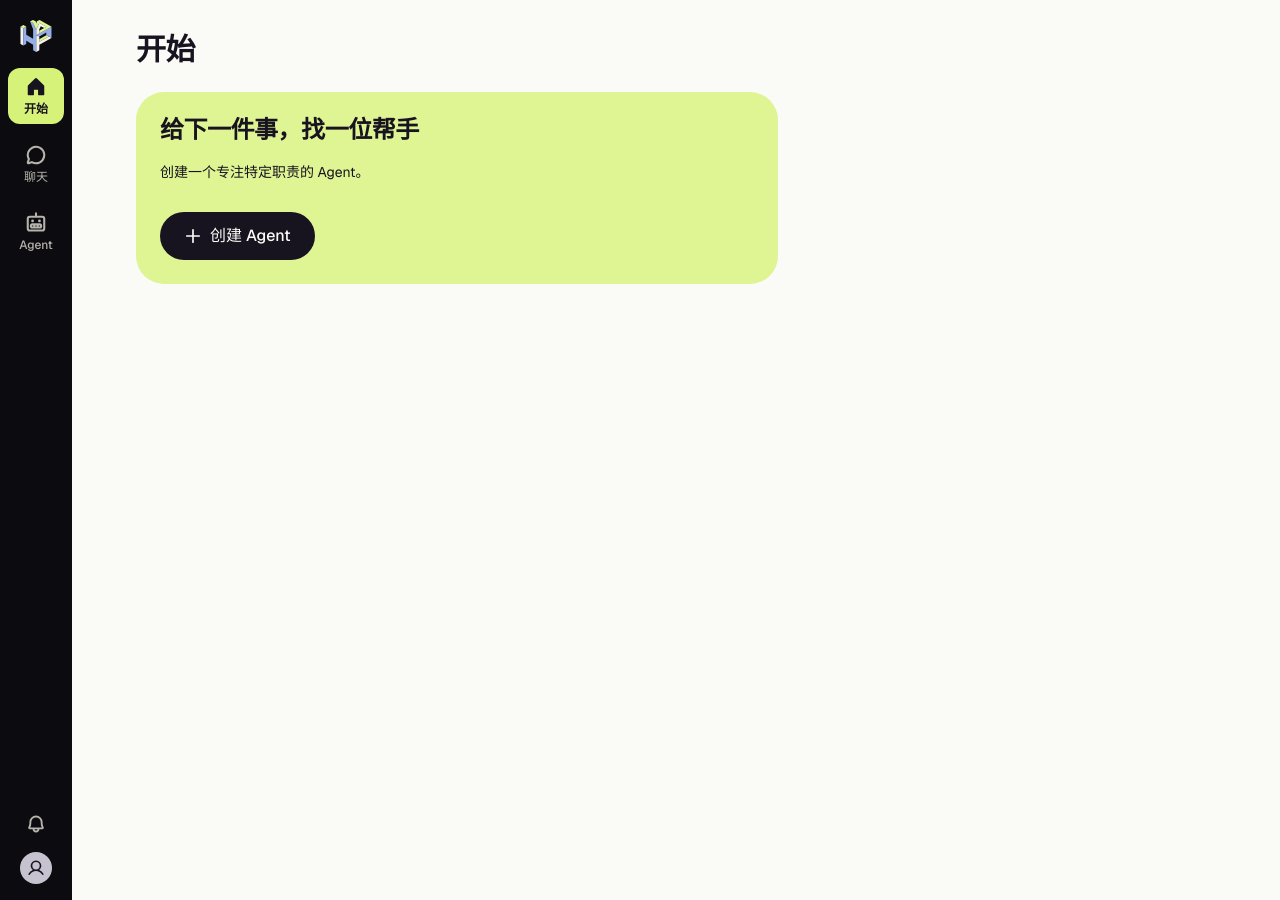
Scenario: contacts fixture page › renders all fixture agents and supports search
The width and height of the screenshot is (1280, 900).
Later steps or results of the test are not shown.
Click the button "Agent" at (36, 232), box [8,204,64,260]
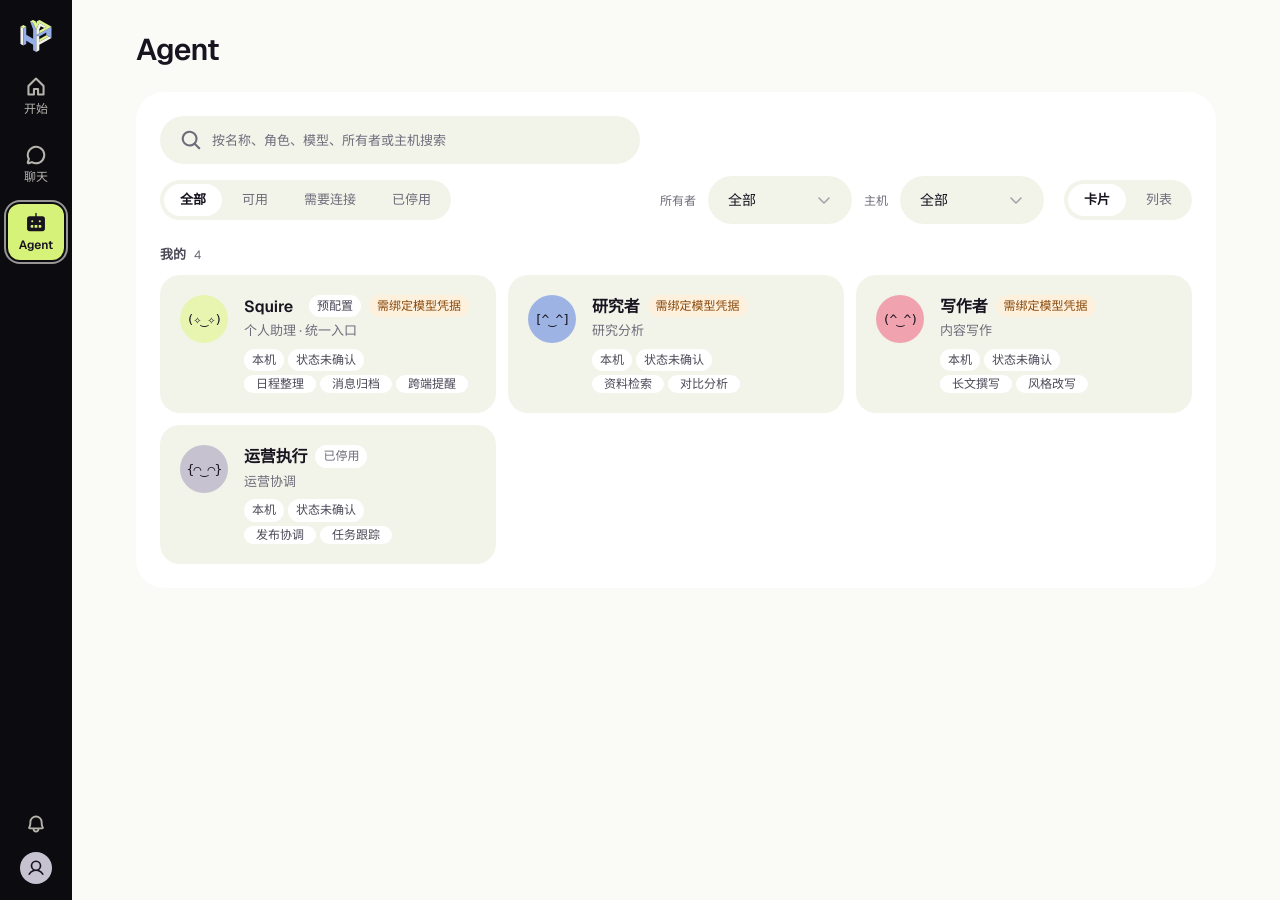
Type "研究" into the search field named "搜索 Agent" at (415, 140), box [210,116,620,164]
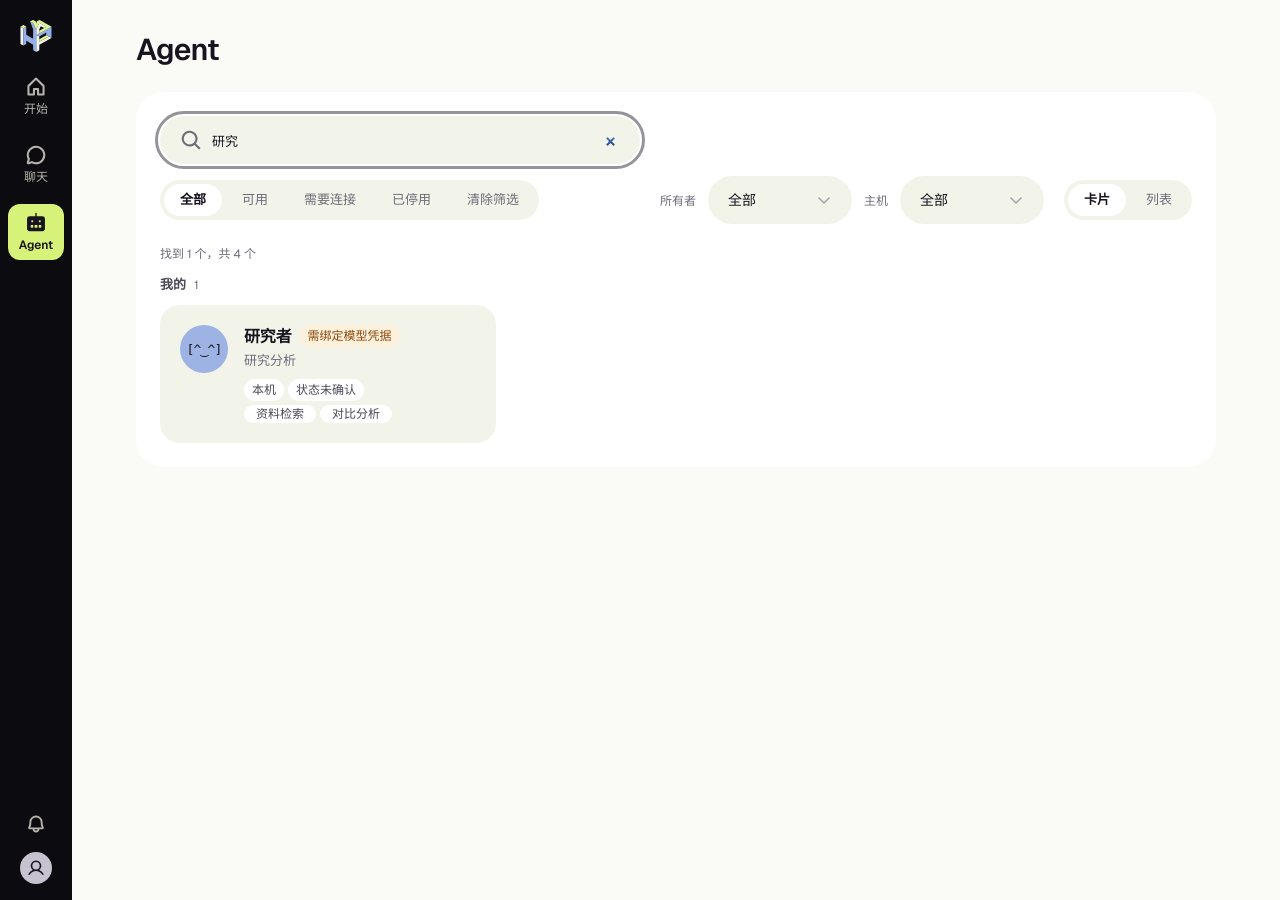
Result: the button with test id "contact-agent-researcher" is shown at [160,305,496,443]
Result: the button with test id "contact-agent-writer" is gone
Result: the text "找到 1 个，共 4 个" is shown at [160,246,256,262]
